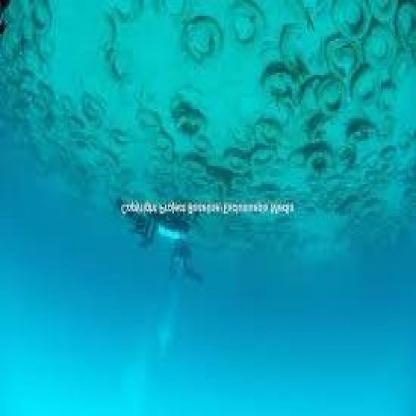tire: (295, 116, 351, 200), (259, 57, 310, 129), (187, 13, 234, 82), (165, 100, 213, 146)
